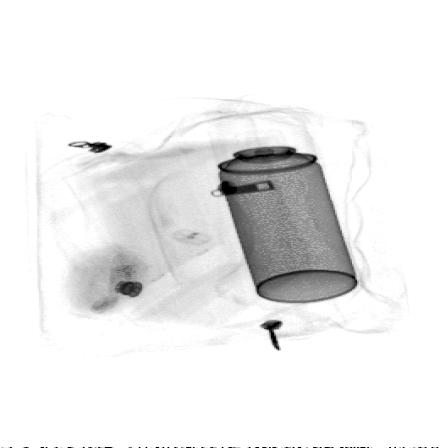Sprayer: (205, 114, 362, 306)
